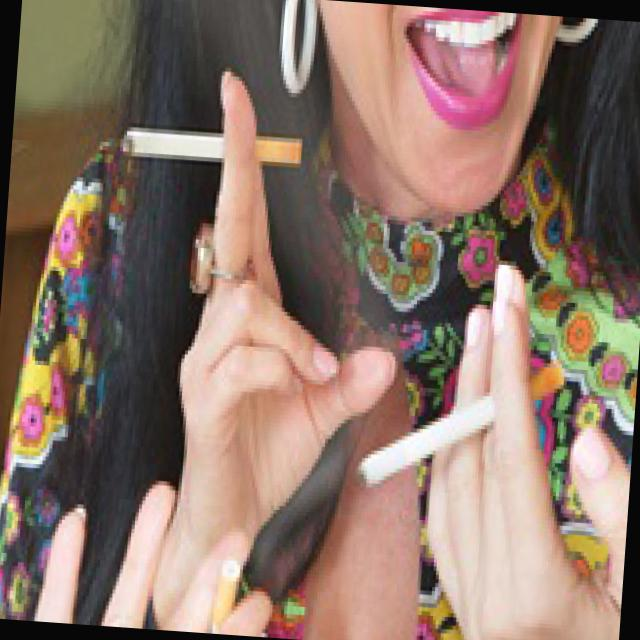smoke: (350, 387, 494, 497), (118, 124, 226, 160)
